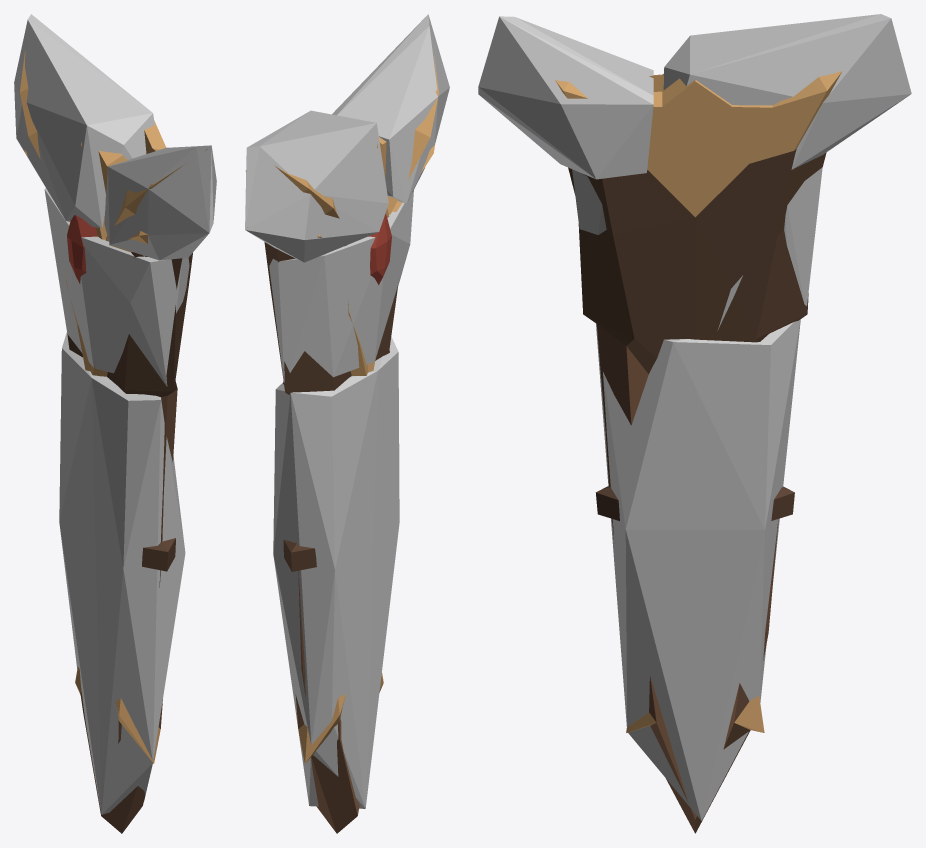
The model's file is SM_Prop_Quiver_01.fbx.
3 renders of one model, left to right at view 1: azimuth 30°, elevation 25°; view 2: azimuth 150°, elevation 25°; view 3: azimuth 270°, elevation 25°, orthographic. The views are drawn at different scales.
Parts seen in each view (by area): view 1: SM_Prop_Quiver_01_ConvexHulls, SM_Prop_Quiver_01; view 2: SM_Prop_Quiver_01_ConvexHulls, SM_Prop_Quiver_01; view 3: SM_Prop_Quiver_01_ConvexHulls, SM_Prop_Quiver_01.
Boxes of the visible parts, box(x1,y1,x2,y2) form: SM_Prop_Quiver_01_ConvexHulls: box(14, 14, 216, 814); SM_Prop_Quiver_01: box(14, 50, 207, 833); SM_Prop_Quiver_01_ConvexHulls: box(245, 14, 449, 808); SM_Prop_Quiver_01: box(245, 21, 438, 833); SM_Prop_Quiver_01_ConvexHulls: box(478, 14, 911, 820); SM_Prop_Quiver_01: box(555, 71, 842, 833).
Size of the model in its own units: 9.58 by 39.7 by 82.56.
2 materials, 1 textured.
